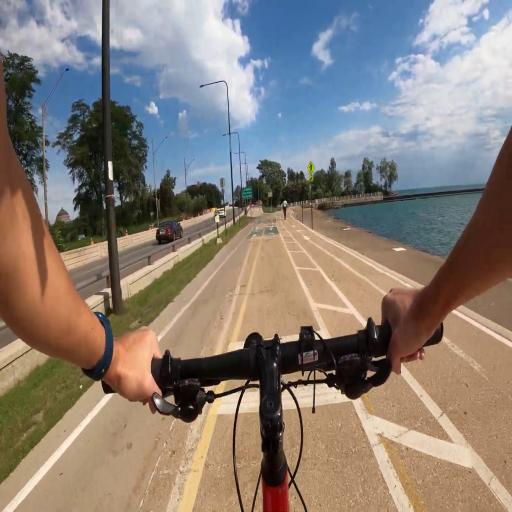Street_Light: (98, 0, 131, 321), (39, 60, 76, 236), (196, 78, 236, 224), (151, 127, 172, 225), (220, 126, 244, 200), (179, 146, 201, 201), (231, 141, 252, 193), (195, 224, 200, 228)
